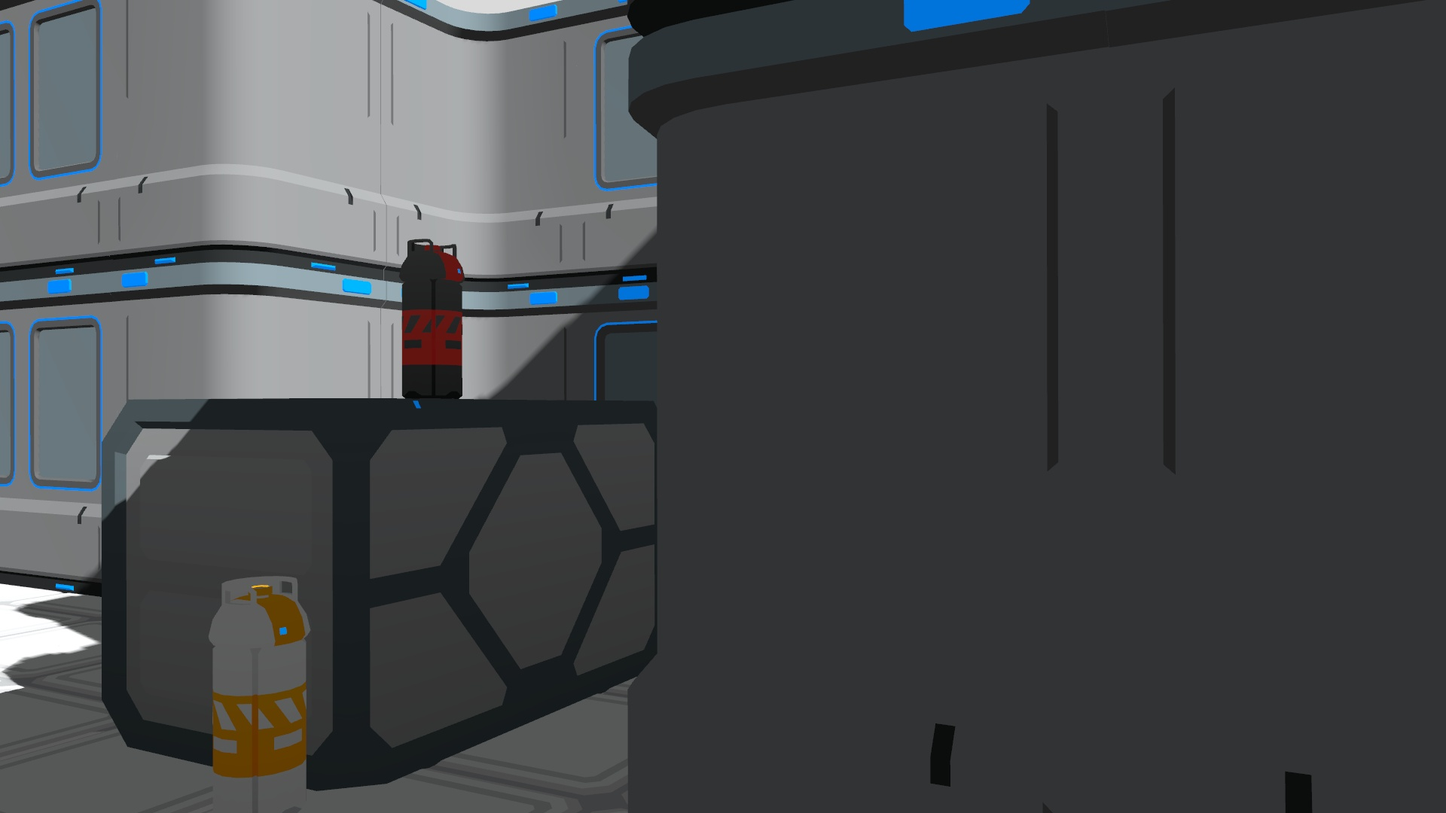red_barrel: (398, 234, 468, 405)
yellow_barrel: (205, 571, 316, 813)
